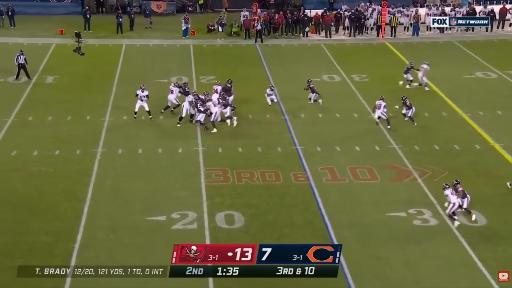Helmet: (453, 180, 460, 186), (443, 184, 450, 190), (205, 96, 212, 102), (172, 82, 179, 87), (192, 91, 198, 96), (183, 82, 188, 87), (204, 91, 209, 96), (140, 85, 145, 90), (227, 79, 232, 84), (379, 96, 384, 101), (401, 96, 406, 101), (215, 81, 221, 85), (424, 61, 429, 65), (409, 61, 414, 65), (307, 79, 312, 83), (270, 86, 274, 90)
Jersey: (444, 189, 458, 203), (194, 96, 205, 113), (454, 186, 468, 199), (220, 95, 230, 109), (206, 102, 218, 113), (137, 90, 148, 102), (376, 100, 386, 113), (223, 85, 233, 97), (184, 94, 193, 107), (307, 84, 318, 94), (419, 64, 429, 75), (404, 64, 414, 74), (403, 100, 413, 110), (170, 86, 179, 97), (181, 87, 190, 97), (214, 85, 222, 94), (266, 89, 274, 96)
Player: (453, 180, 475, 220), (443, 184, 460, 227), (134, 85, 153, 120), (192, 92, 208, 130), (161, 83, 181, 113), (178, 93, 195, 126), (373, 96, 390, 128), (220, 94, 237, 126), (206, 96, 220, 132), (304, 79, 322, 104), (401, 96, 416, 125), (403, 61, 418, 87), (223, 79, 235, 110), (419, 61, 429, 90), (266, 86, 277, 106), (212, 82, 222, 104)
